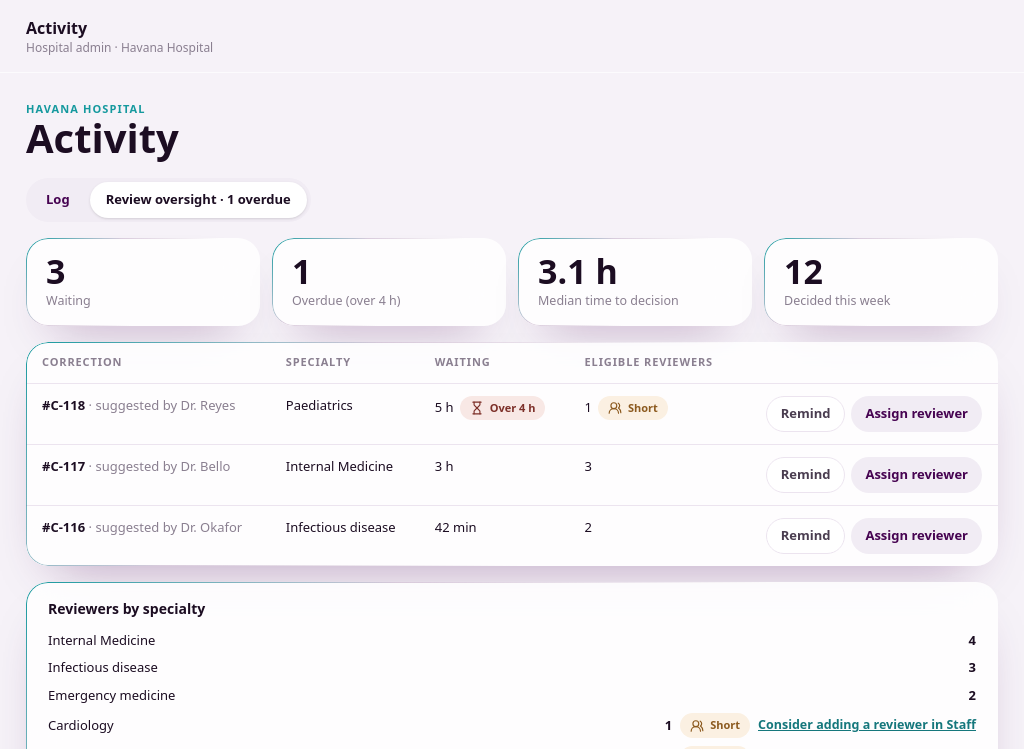
Test: OversightView › assigns a reviewer from the eligible list
Click the button with aria-label "Assign a reviewer to C-118" at x=917, y=414, box [851,396,982,432]
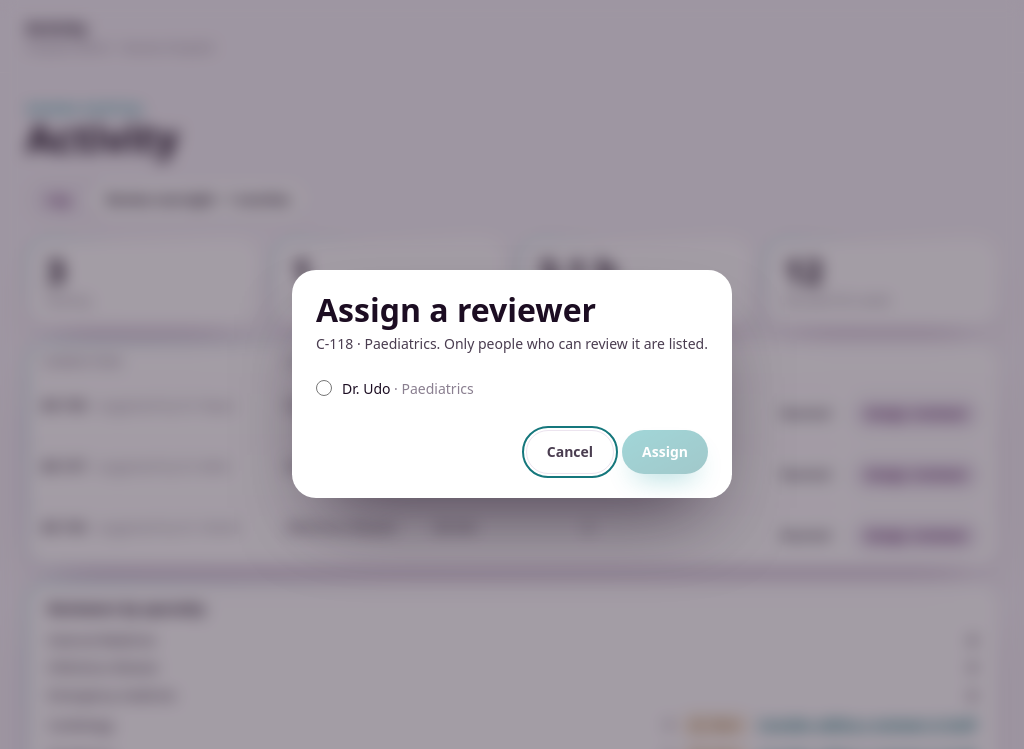
expect the button "Cancel" is shown: met, box [526,430,614,474]
Click the radio button labelled "Dr. Udo · Paediatrics" at x=324, y=388, box [316,380,332,396]
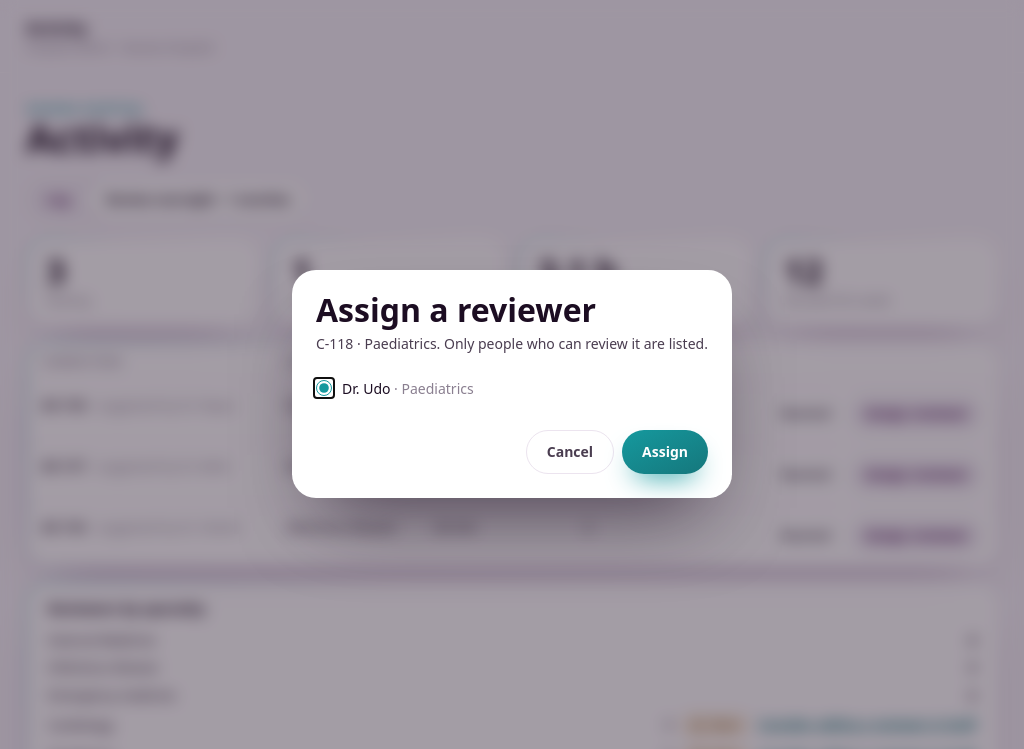
Click the button "Assign" at x=665, y=452, box [622,430,708,474]
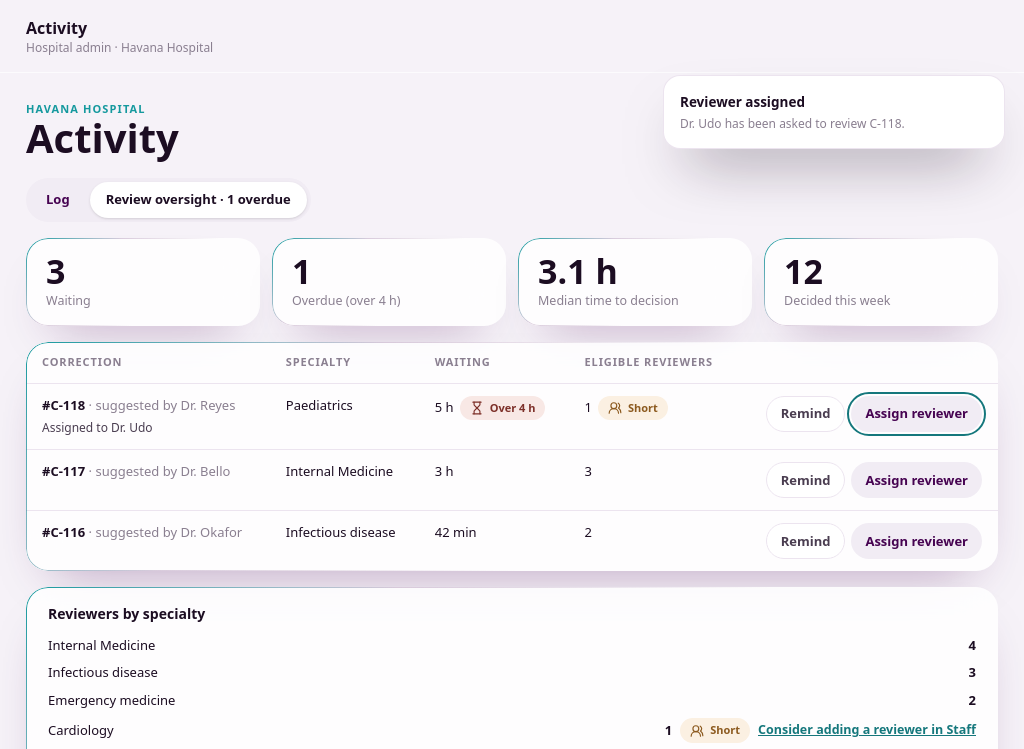
expect the text "Reviewer assigned" is shown: met, box [680,93,805,111]
expect the text "#C-118" shows "Assigned to Dr. Udo": met, box [26,383,998,450]
